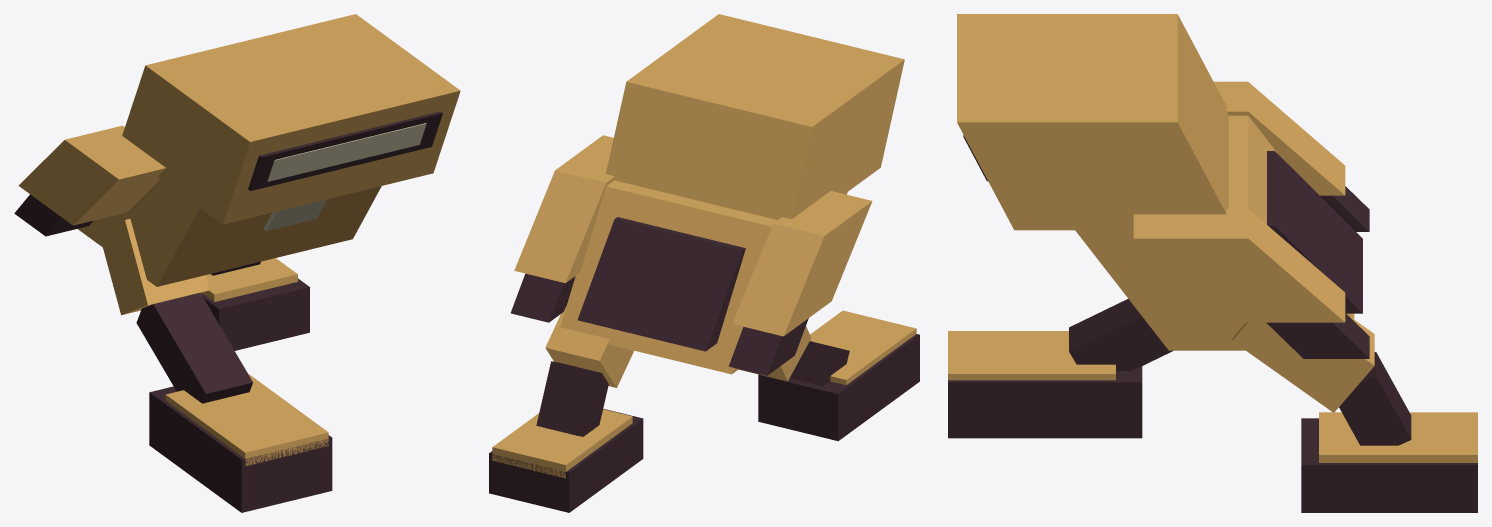
File: enemy_runner.glb
3 views of the same model, side by side, from view 1: azimuth 30°, elevation 25°; view 2: azimuth 150°, elevation 25°; view 3: azimuth 270°, elevation 25° (orthographic). The views are drawn at different scales.
Visible parts, largest first — view 1: enemy_runner; view 2: enemy_runner; view 3: enemy_runner.
Boxes of the visible parts, box(x1,y1,x2,y2) form: enemy_runner: box(14, 14, 460, 512); enemy_runner: box(489, 14, 919, 512); enemy_runner: box(948, 14, 1477, 512).
Size of the model in its own units: 0.42 by 0.48 by 0.6.
